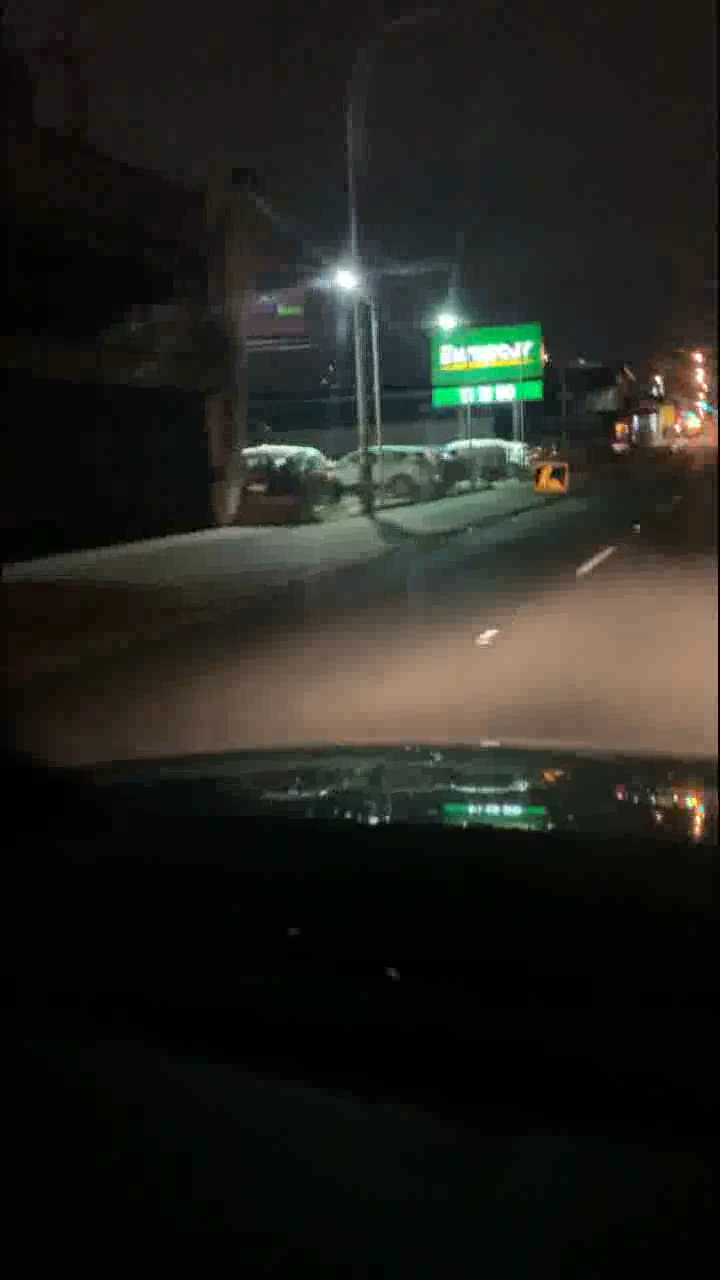road works sign board: (531, 461, 572, 498)
